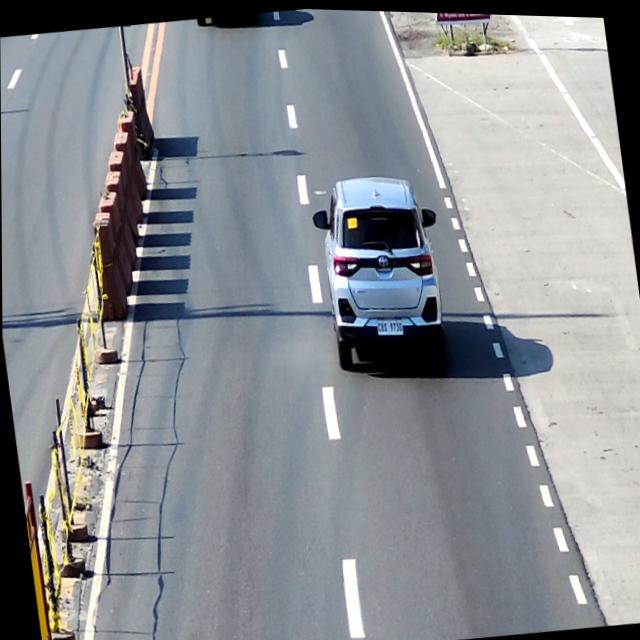Car: (306, 166, 456, 380)
License-Plate: (375, 313, 403, 335)
